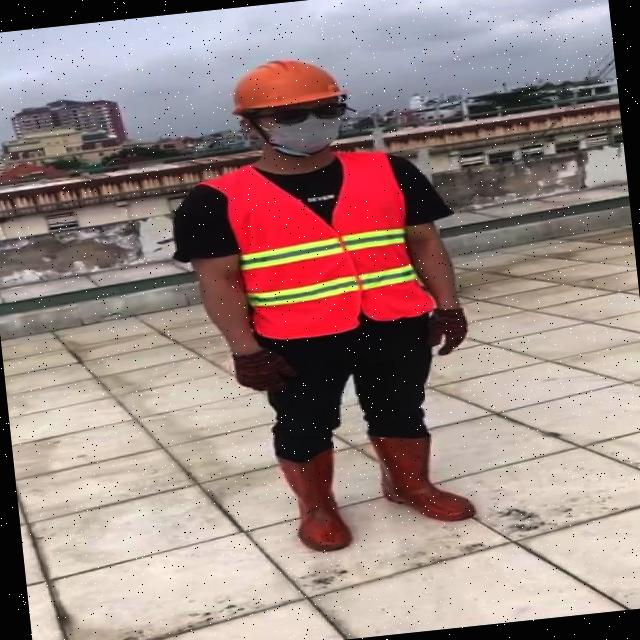boots: (368, 426, 477, 527), (274, 445, 354, 556)
